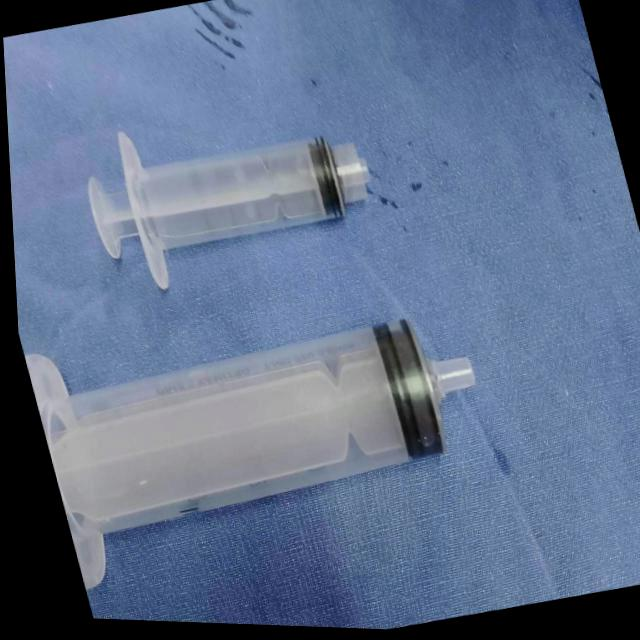Sharps: (25, 316, 477, 589), (88, 129, 372, 291)
